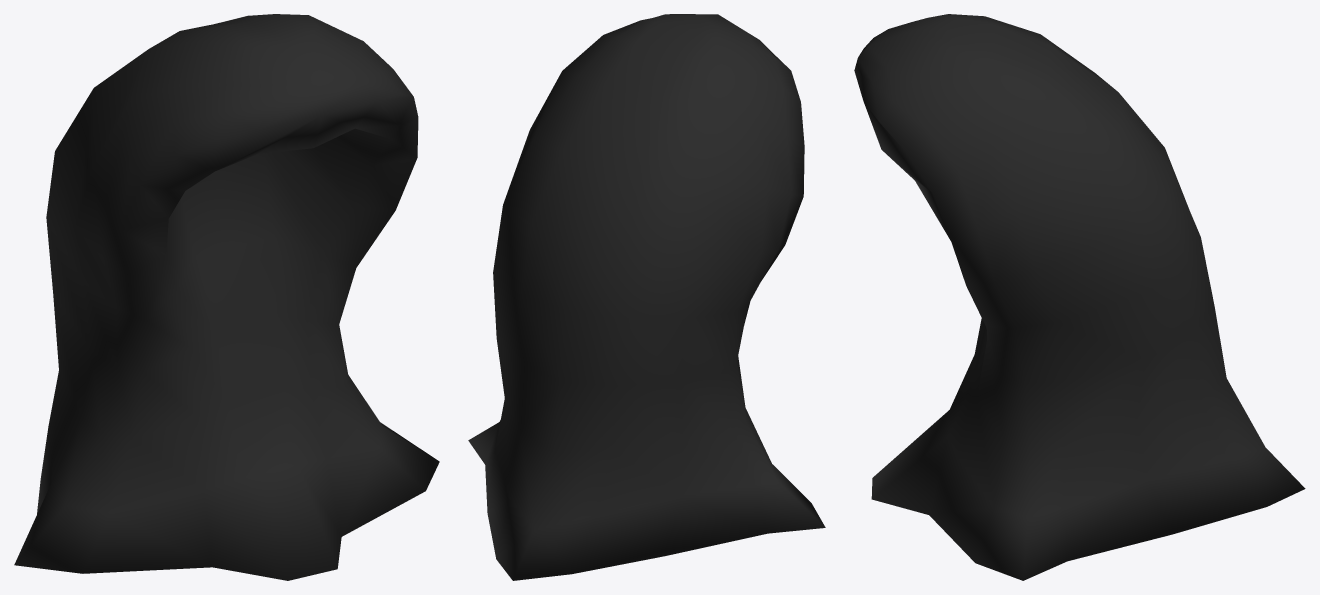
The model's file is char.fbx.
3 renders of one model, left to right at view 1: azimuth 30°, elevation 25°; view 2: azimuth 150°, elevation 25°; view 3: azimuth 270°, elevation 25°, orthographic. The views are drawn at different scales.
Parts seen in each view (by area): view 1: char; view 2: char; view 3: char.
Boxes of the visible parts, box(x1,y1,x2,y2) form: char: box(14, 14, 439, 580); char: box(468, 14, 825, 580); char: box(854, 14, 1305, 580).
Size of the model in its own units: 137 by 158 by 140.
